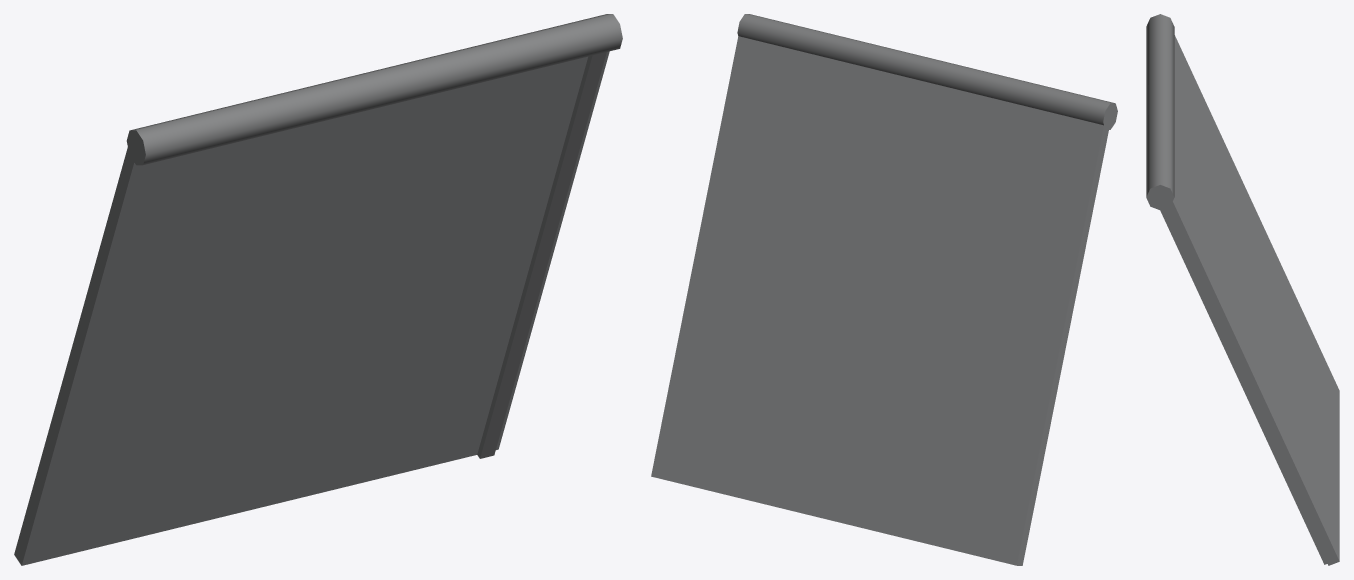
3 views of the same model, side by side, from view 1: azimuth 30°, elevation 25°; view 2: azimuth 150°, elevation 25°; view 3: azimuth 270°, elevation 25° (orthographic). The views are drawn at different scales.
Size of the model in its own units: 1 by 1.05 by 0.4788.
